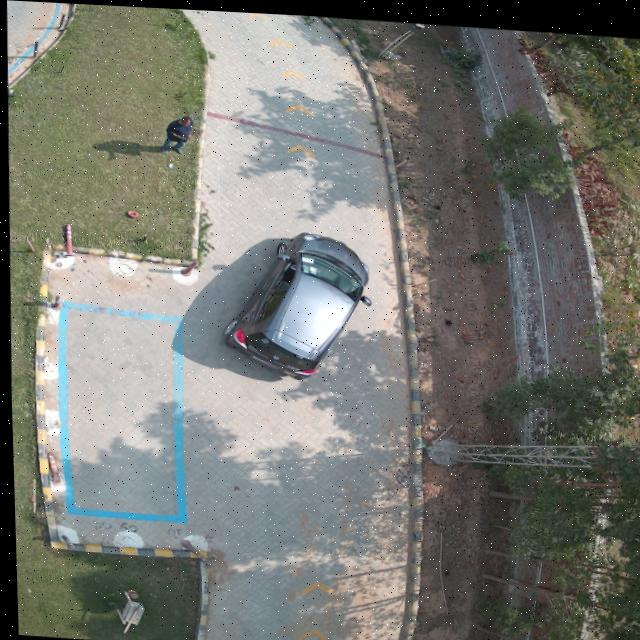car: (223, 230, 367, 375)
